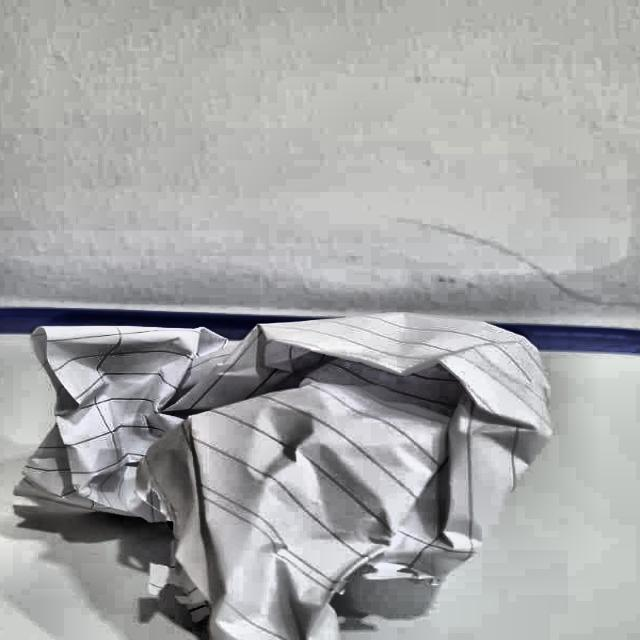paper: (22, 313, 576, 625)
